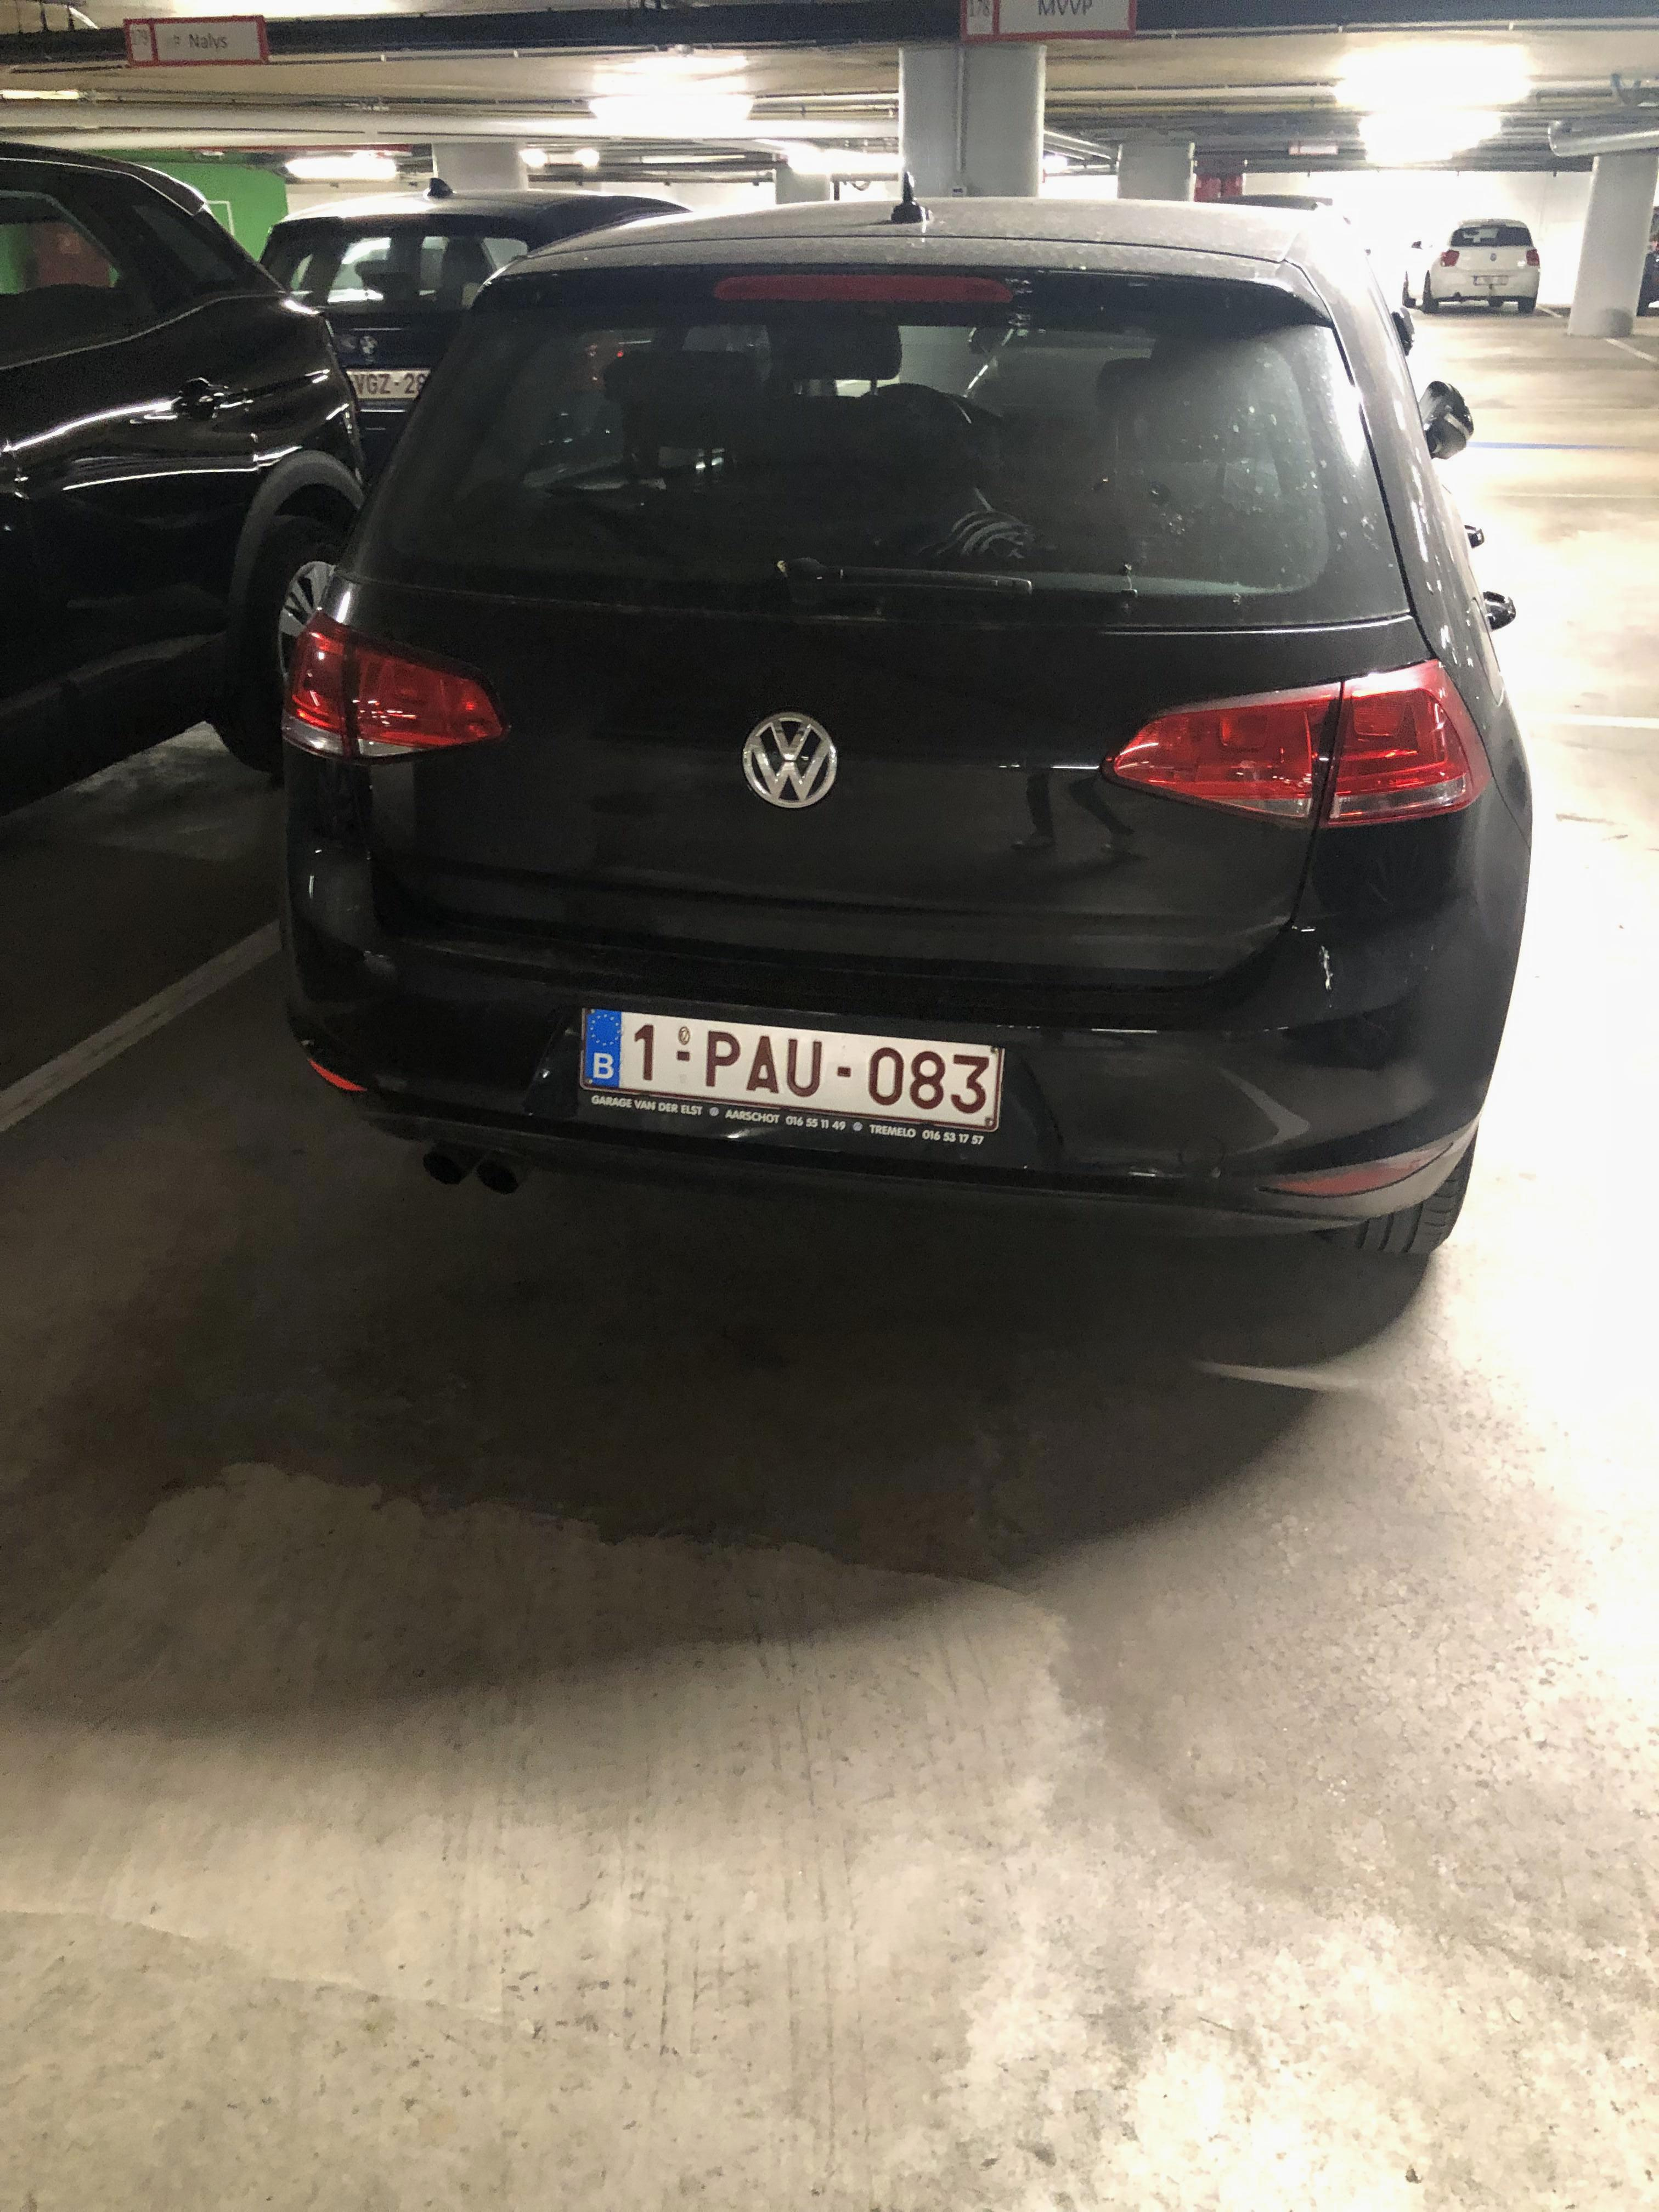plate: (549, 992, 1025, 1139)
